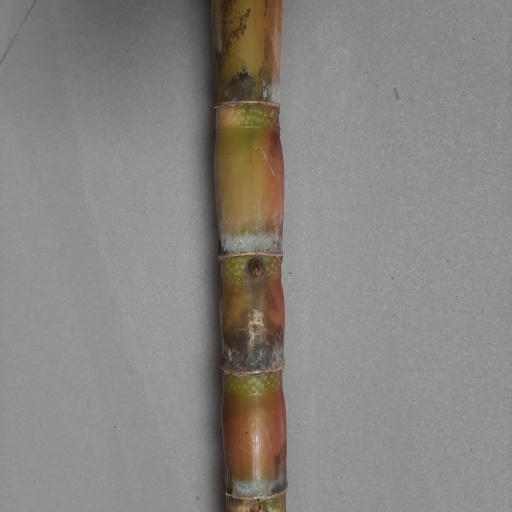Bud: (246, 255, 267, 280)
